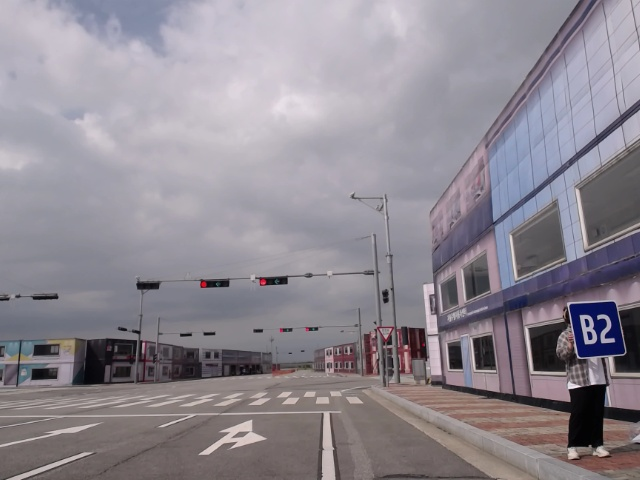delivery_b2: (567, 299, 628, 359)
left_green_4: (198, 277, 231, 290), (258, 275, 291, 286), (304, 325, 322, 333), (279, 326, 295, 334)
